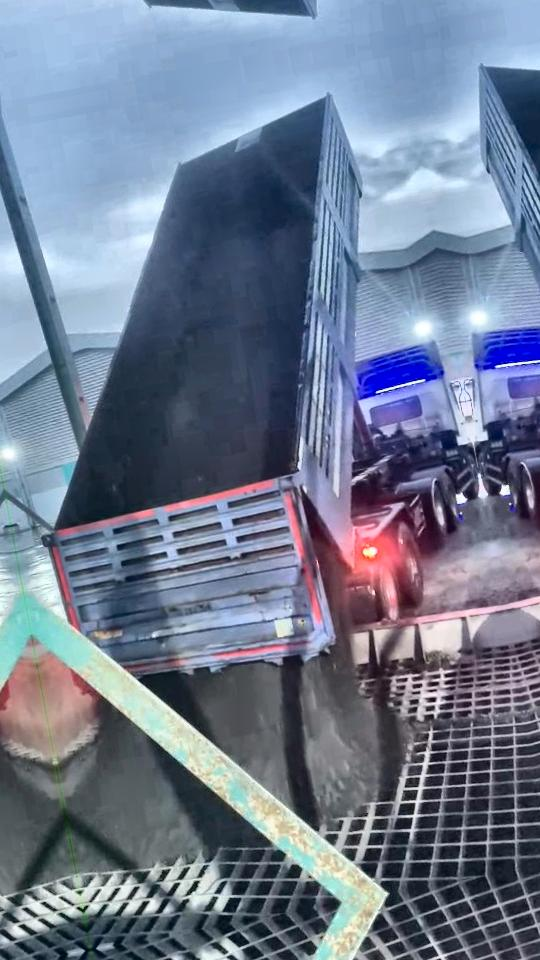gravel: (142, 634, 385, 830), (61, 701, 263, 872)
